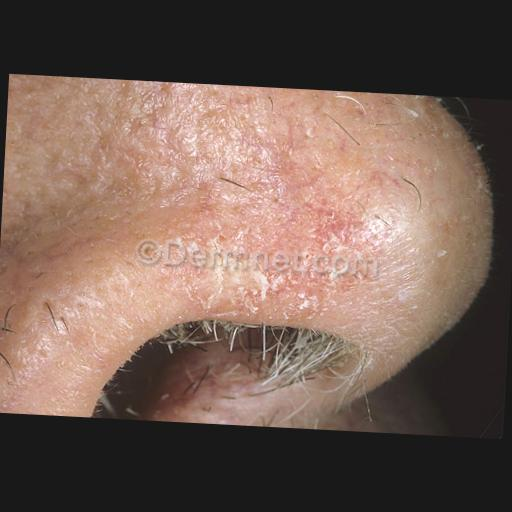Skin_Lesion: (154, 108, 248, 188), (288, 192, 360, 267), (222, 270, 254, 318)
